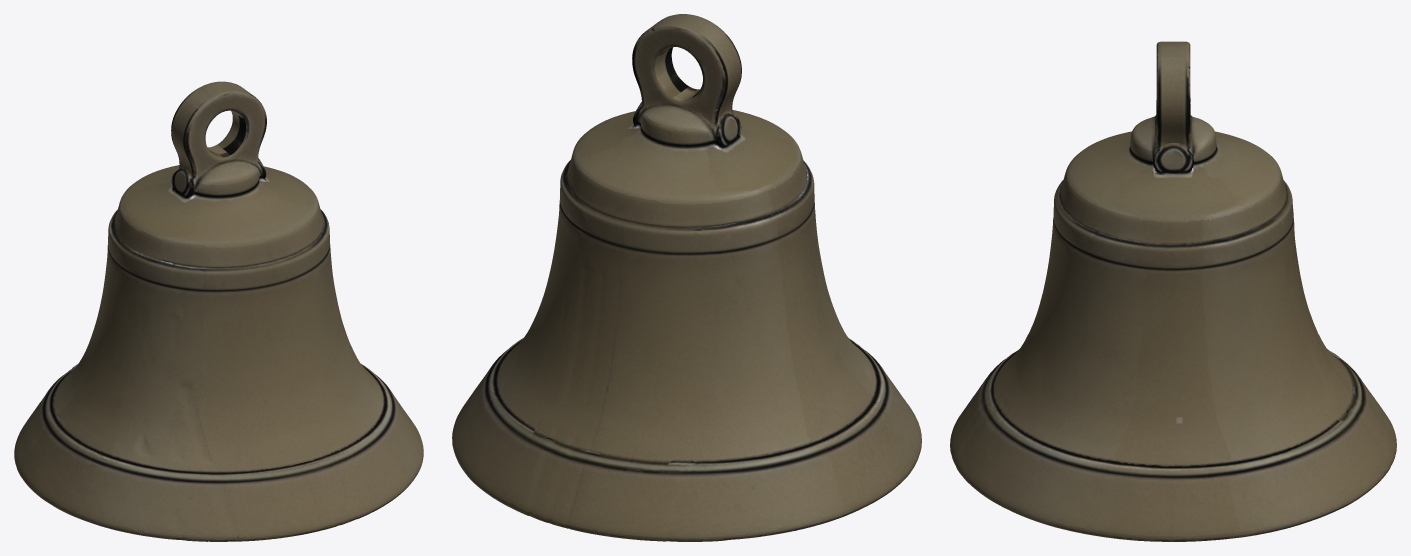
The model's file is feature-bell.glb.
3 renders of one model, left to right at view 1: azimuth 30°, elevation 25°; view 2: azimuth 150°, elevation 25°; view 3: azimuth 270°, elevation 25°, orthographic. The views are drawn at different scales.
Visible parts, largest first — view 1: tmpdyojb5q0.ply; view 2: tmpdyojb5q0.ply; view 3: tmpdyojb5q0.ply.
Boxes of the visible parts, x1,y1,x2,y2 form: tmpdyojb5q0.ply: [14, 81, 423, 541]; tmpdyojb5q0.ply: [452, 14, 921, 541]; tmpdyojb5q0.ply: [950, 41, 1396, 541].
Size of the model in its own units: 1 by 1 by 1.
1 material, 1 textured.
